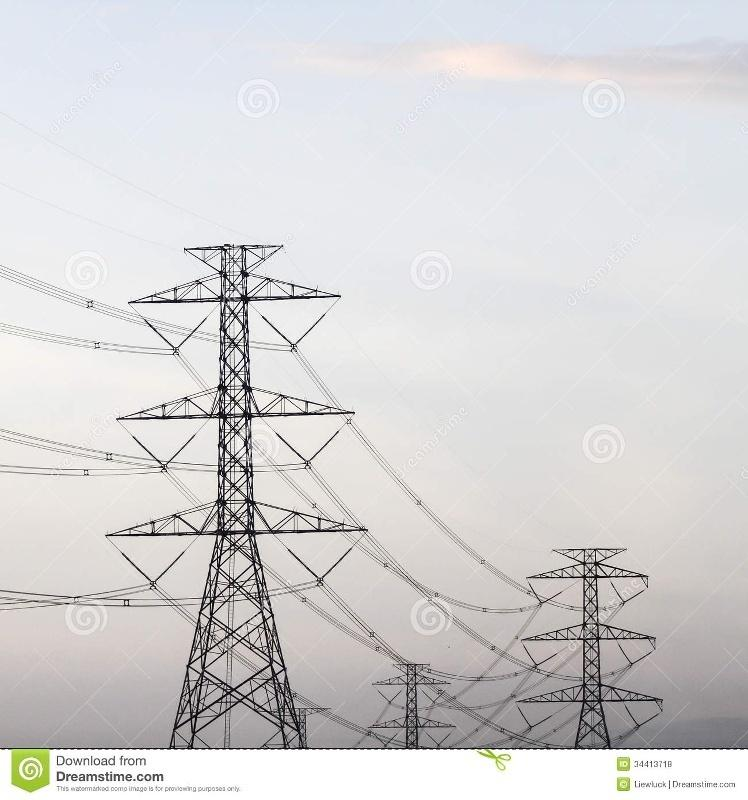power_tower: (125, 238, 343, 747), (498, 533, 678, 741), (376, 653, 442, 741)
